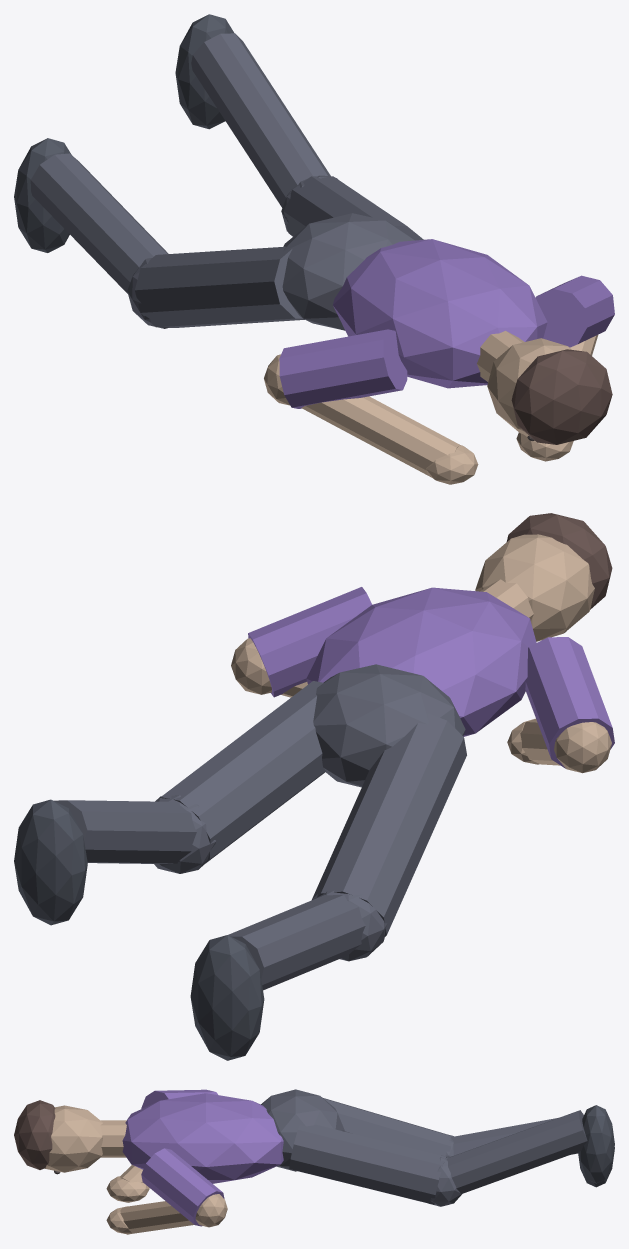
The picture shows the model from 3 angles, top to bottom: view 1: azimuth 30°, elevation 25°; view 2: azimuth 150°, elevation 25°; view 3: azimuth 270°, elevation 25°; orthographic projection. The views are drawn at different scales.
Visible parts, largest first — view 1: world; view 2: world; view 3: world.
Part boxes in pixels (left/top/right/bottom): world: left=14, top=14, right=614, bottom=484; world: left=14, top=513, right=614, bottom=1060; world: left=14, top=1089, right=614, bottom=1234.
Bounding box in the file's own units: 0.93 × 0.52 × 2.08.
